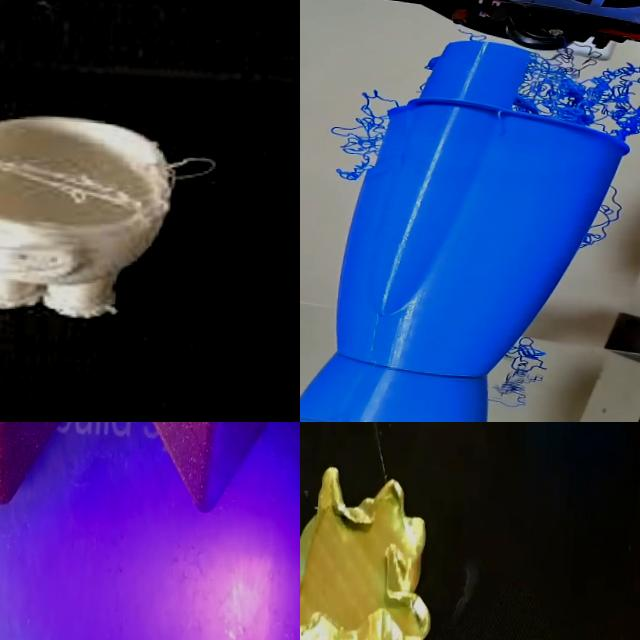spaghetti: (475, 20, 640, 147), (316, 70, 408, 171), (504, 68, 628, 132), (504, 330, 556, 378)
